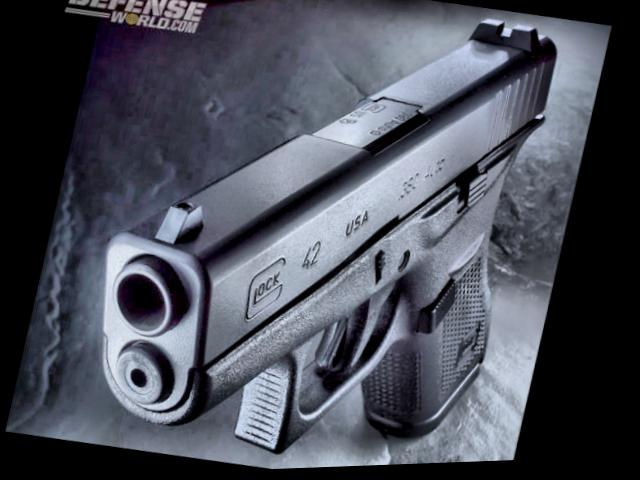pistol: (75, 0, 568, 477)
